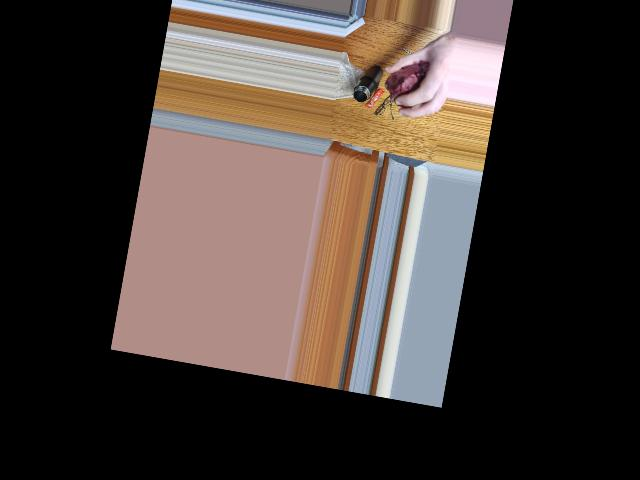onion: (386, 55, 431, 107)
